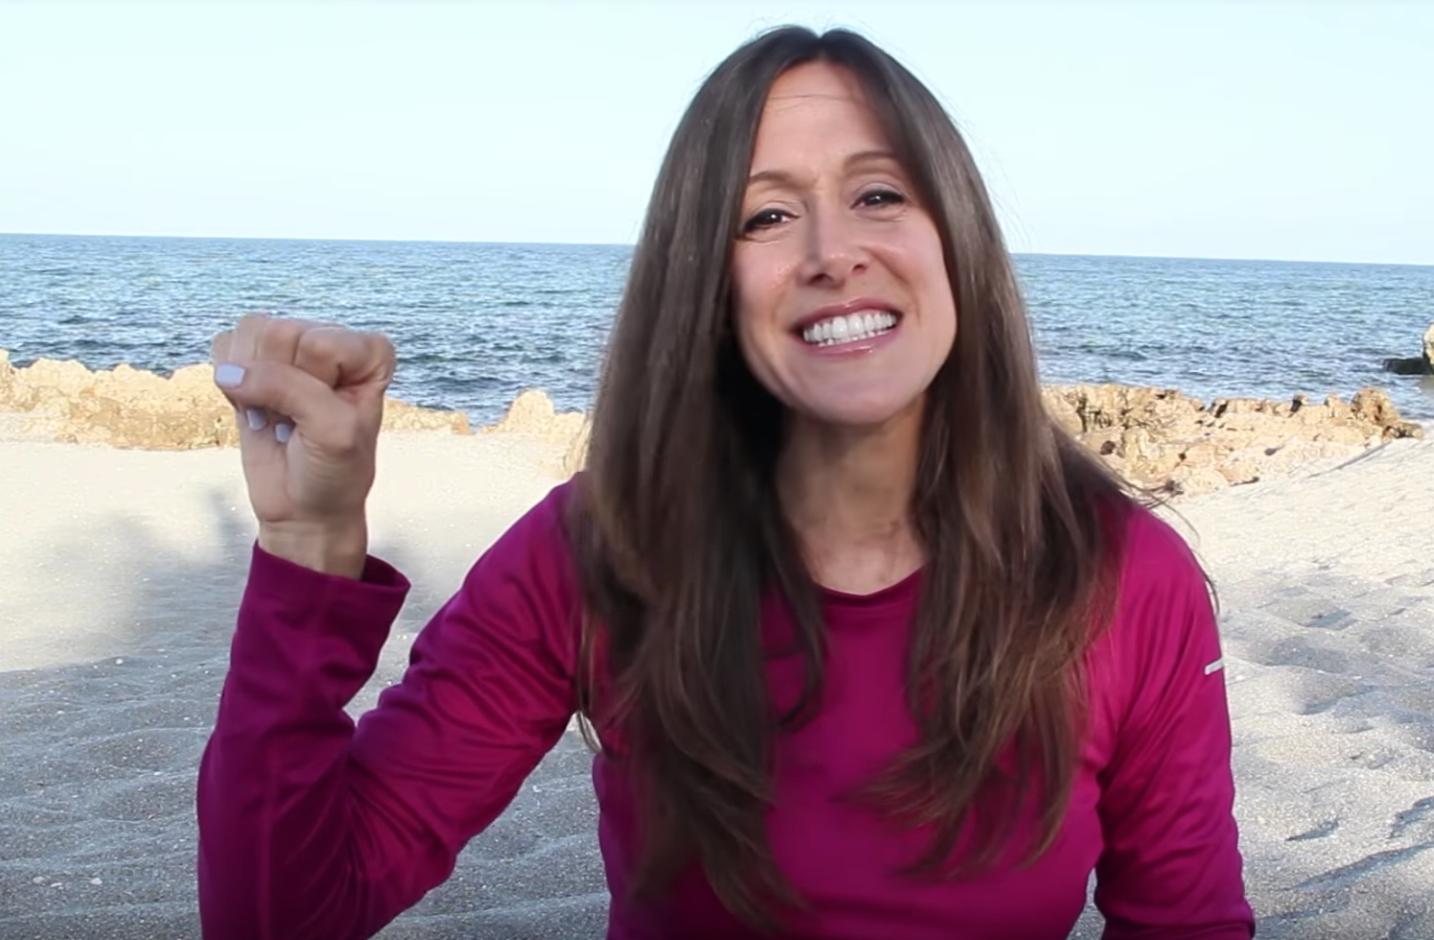s: (183, 299, 442, 651)
